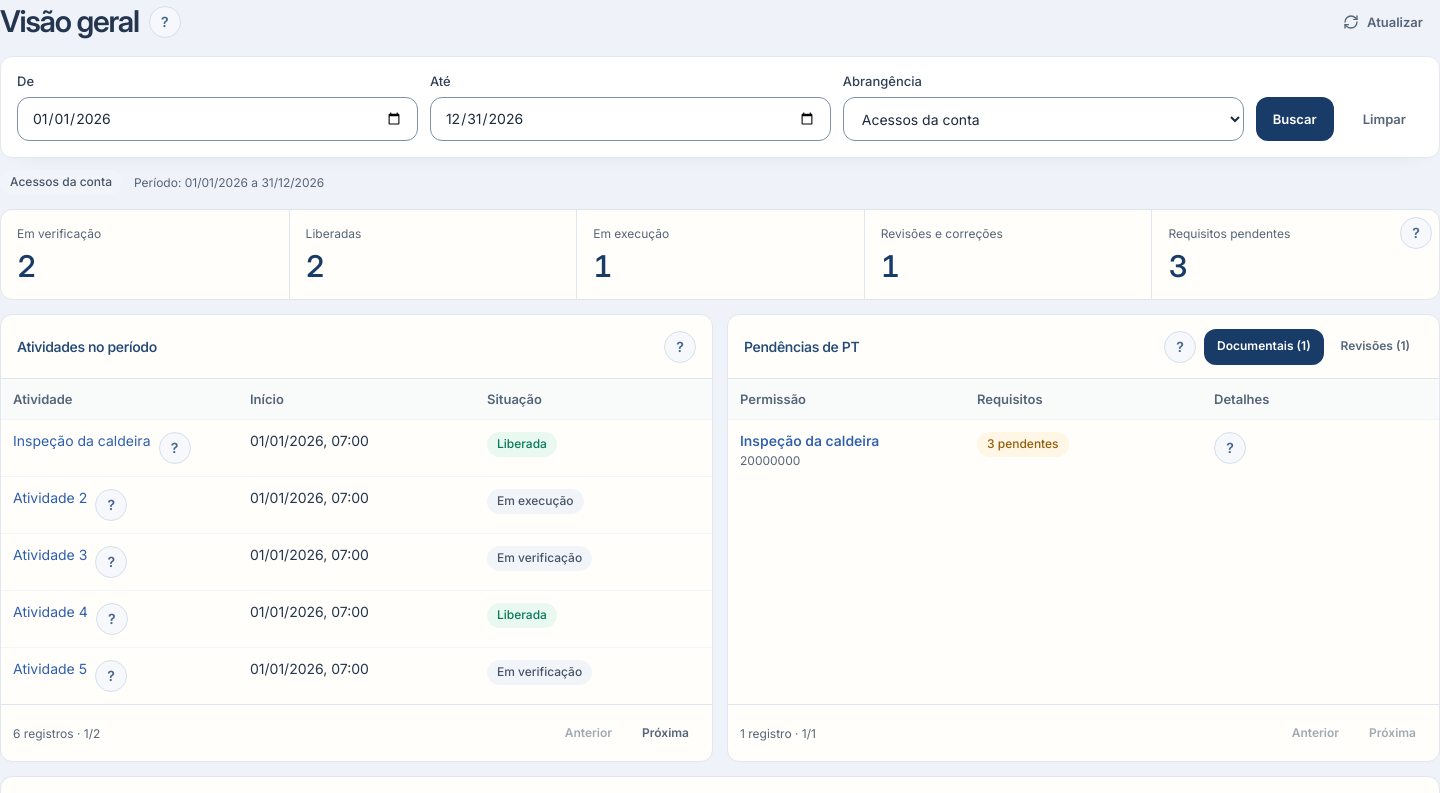
Scenario: dashboard operacional no contrato nativo › mostra contadores reais, cinco linhas por página, pendências e detalhes sem navegar para contratos antigos
This screenshot has width=1440, height=793.
expect the element "Atividades no período" is shown: met, box top-left (0, 314), bottom-right (713, 762)
expect the link "Inspeção da caldeira" below "Início" is shown: met, box top-left (13, 432), bottom-right (150, 449)
Click the button "Próxima" in the row of "6 registros".
click(666, 733)  # box top-left (631, 715), bottom-right (700, 751)
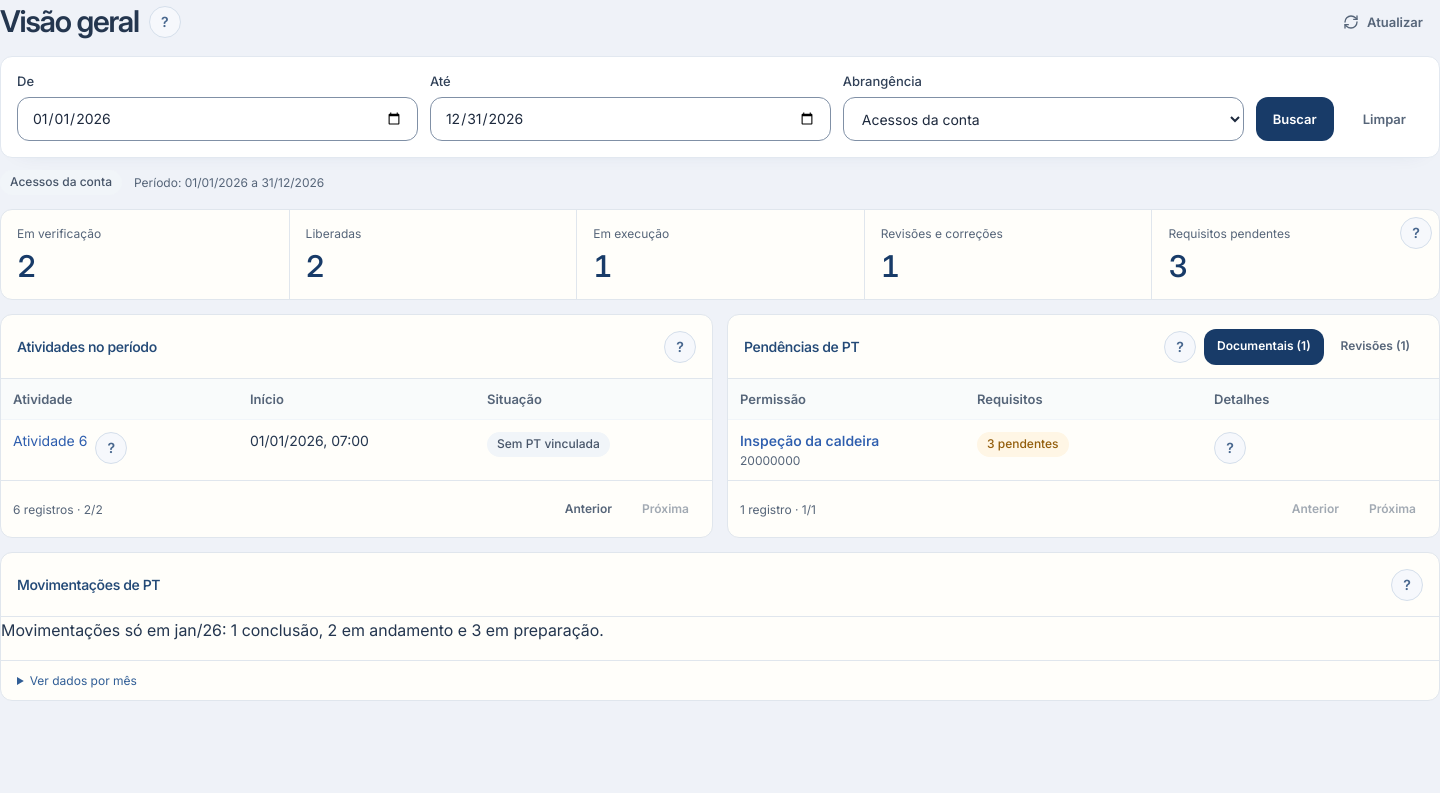
expect the link "Atividade 6" is shown: met, box top-left (13, 432), bottom-right (87, 449)
expect the text "Sem PT vinculada" is shown: met, box top-left (487, 432), bottom-right (610, 457)
Click the button "Revisões (1)".
click(1375, 347)  # box top-left (1328, 329), bottom-right (1423, 365)
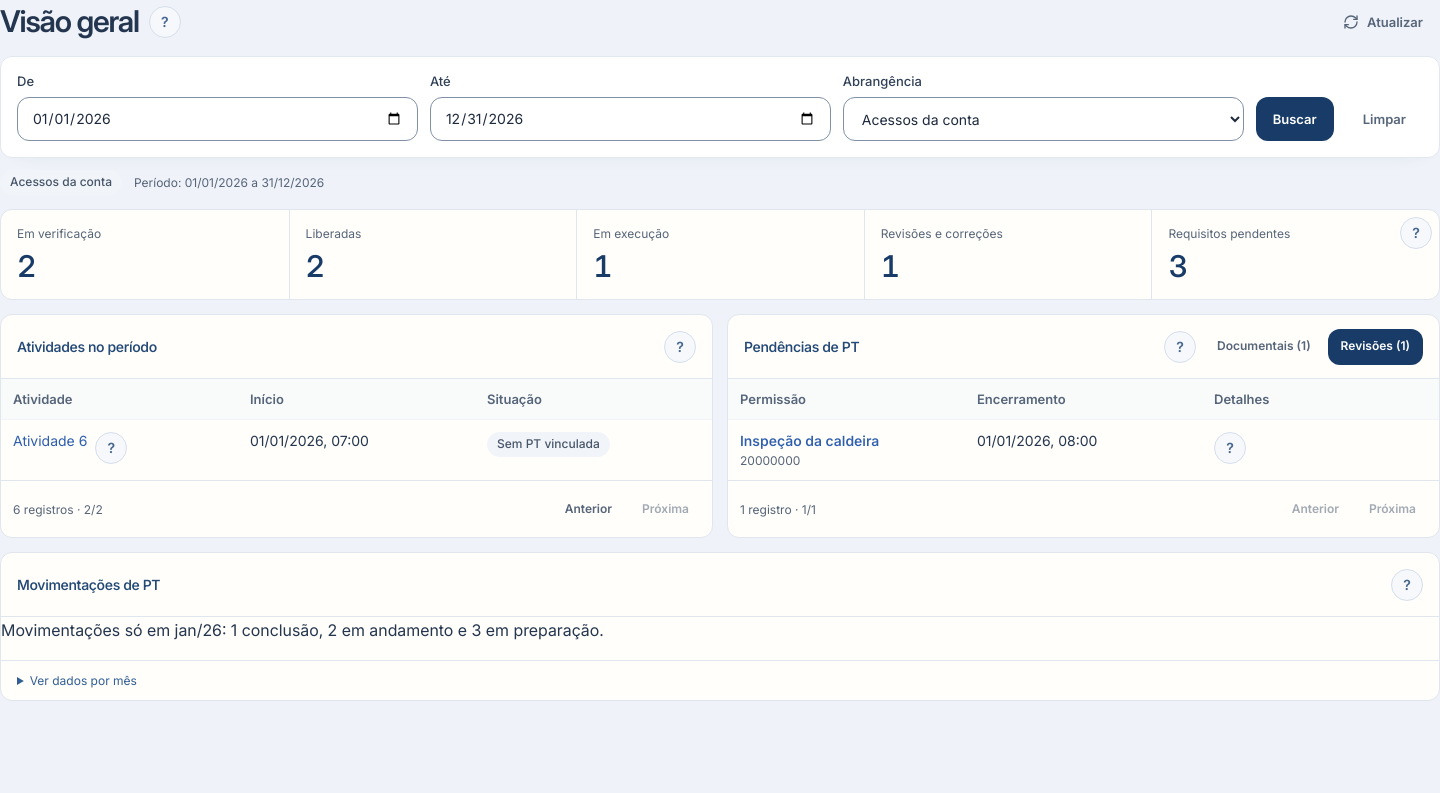
expect the column heading "Encerramento" is shown: met, box top-left (965, 379), bottom-right (1202, 420)
Click the button named "Mais informações: Movimentações de PT".
click(1407, 585)  # box top-left (1391, 569), bottom-right (1423, 601)
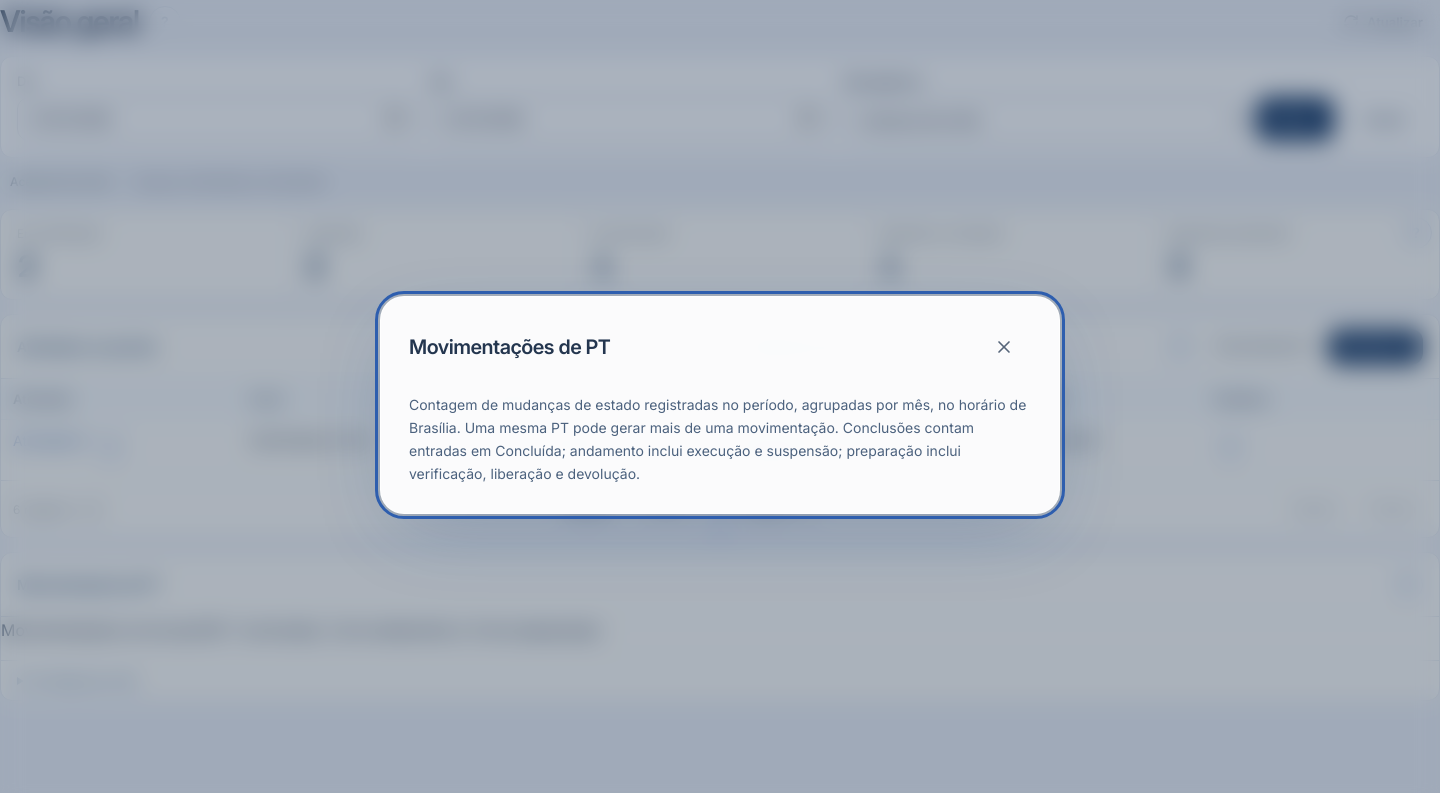
expect the dialog shows "Uma mesma PT pode gerar mais de uma movimentação": met, box top-left (409, 396), bottom-right (1026, 482)
